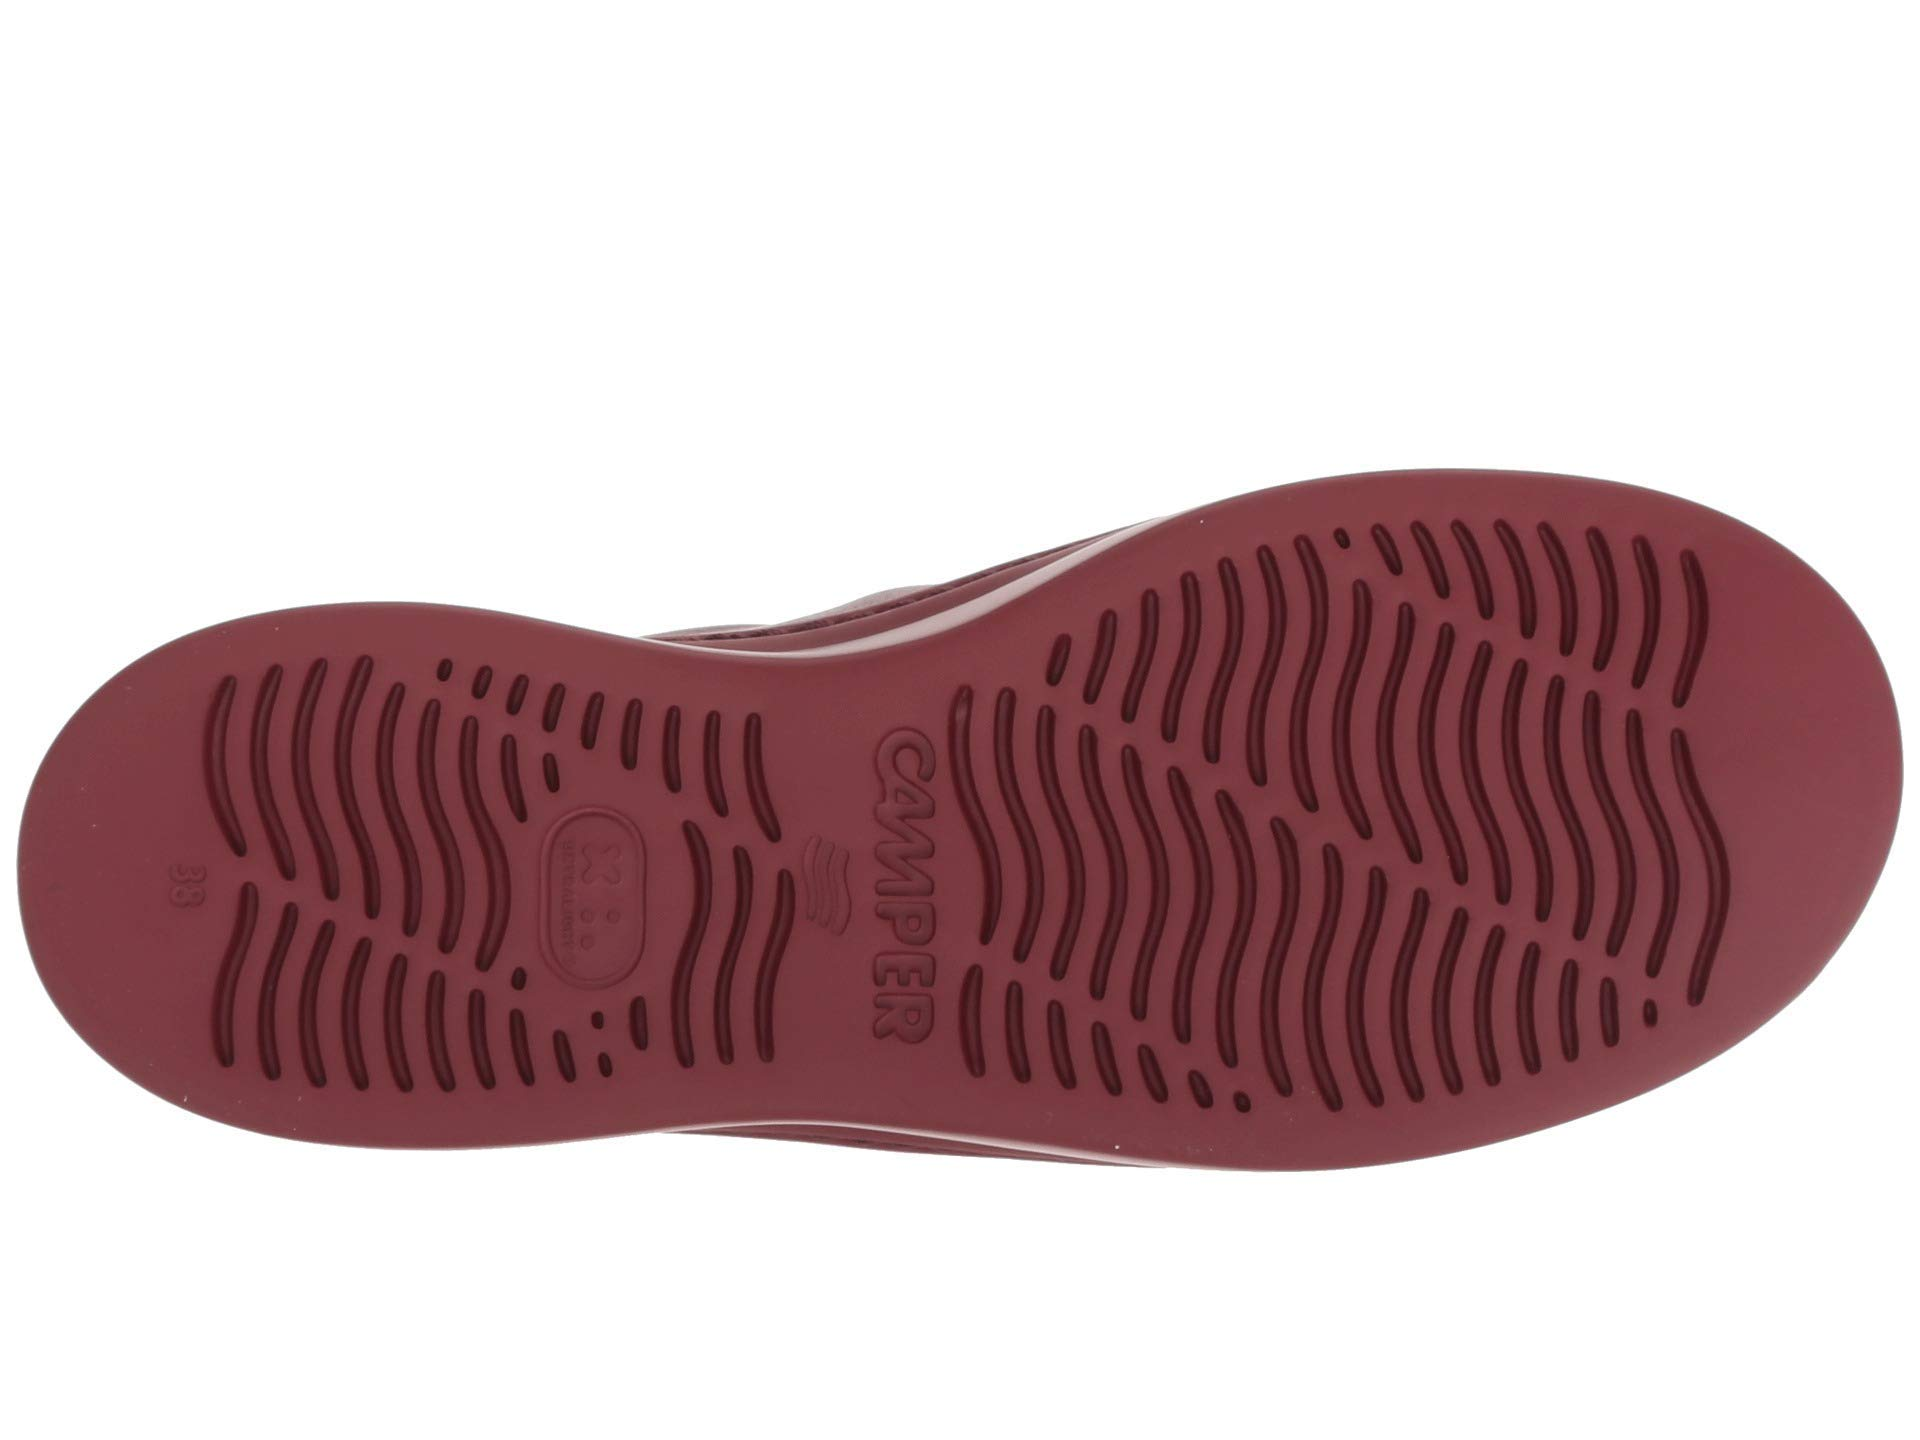chevron: (1293, 616, 1726, 1044), (773, 709, 1129, 1082), (423, 768, 717, 1054)
line: (773, 709, 1129, 1082)
quad: (423, 768, 717, 1054)
text: (773, 709, 1129, 1082), (423, 768, 717, 1054)
